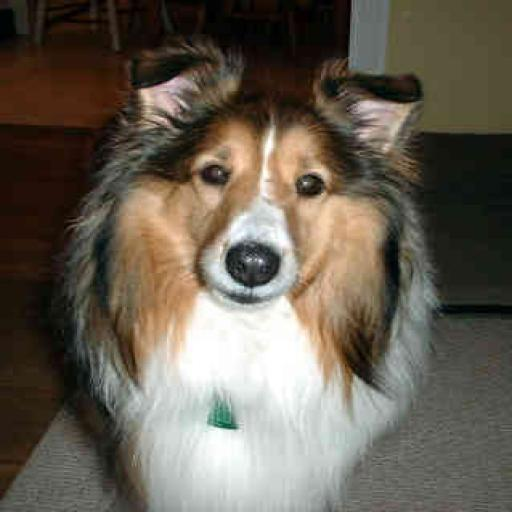dog_face: (128, 49, 428, 322)
